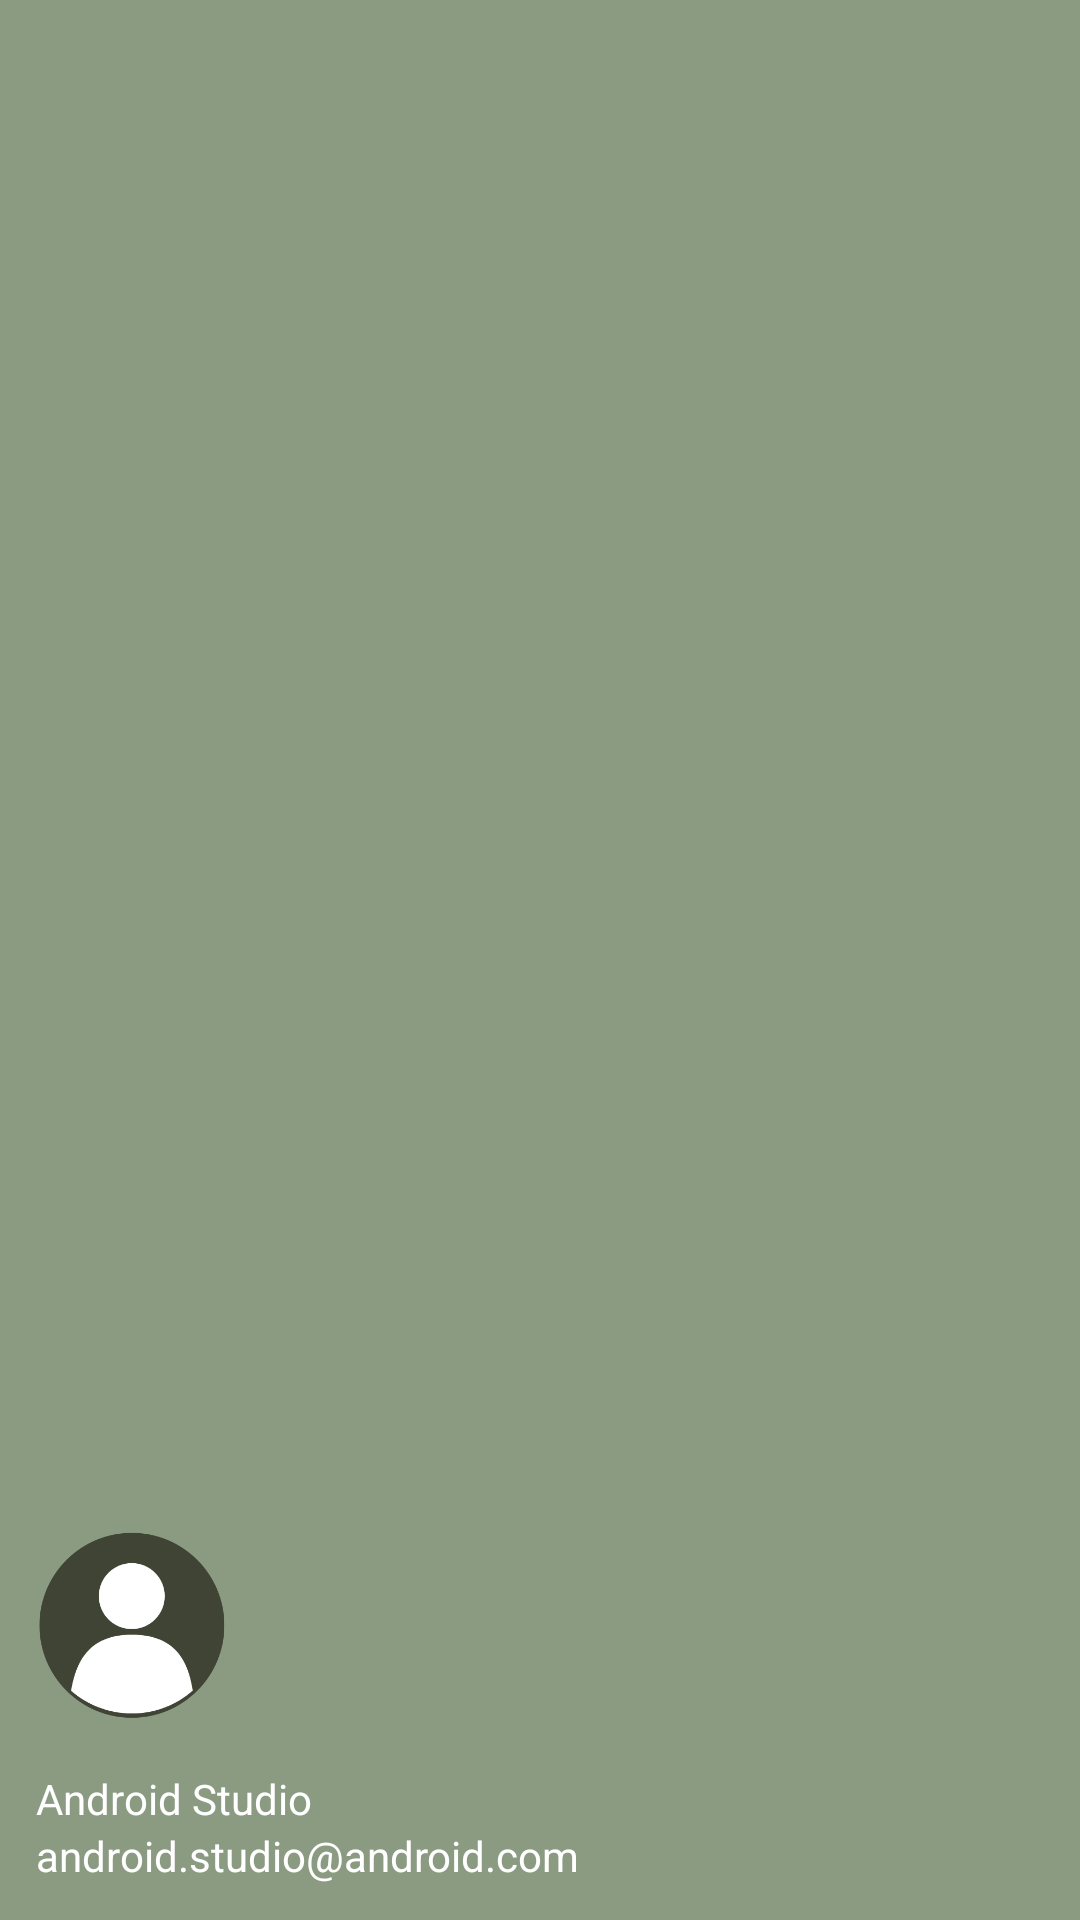

Icon bounding boxes for this 1080w x 1920h phone screenshot, format box=[x1, y1, x2, y2]:
profile: box=[39, 1533, 224, 1718]
